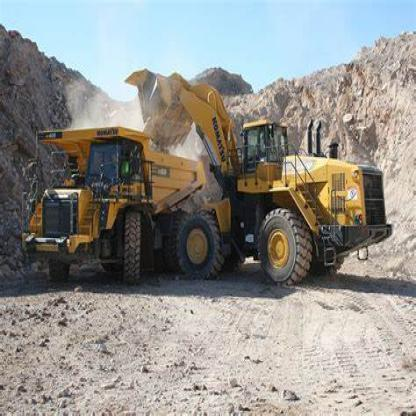bull_dozer/loader/grader: (128, 60, 394, 288)
dump_truck: (17, 122, 194, 294)
